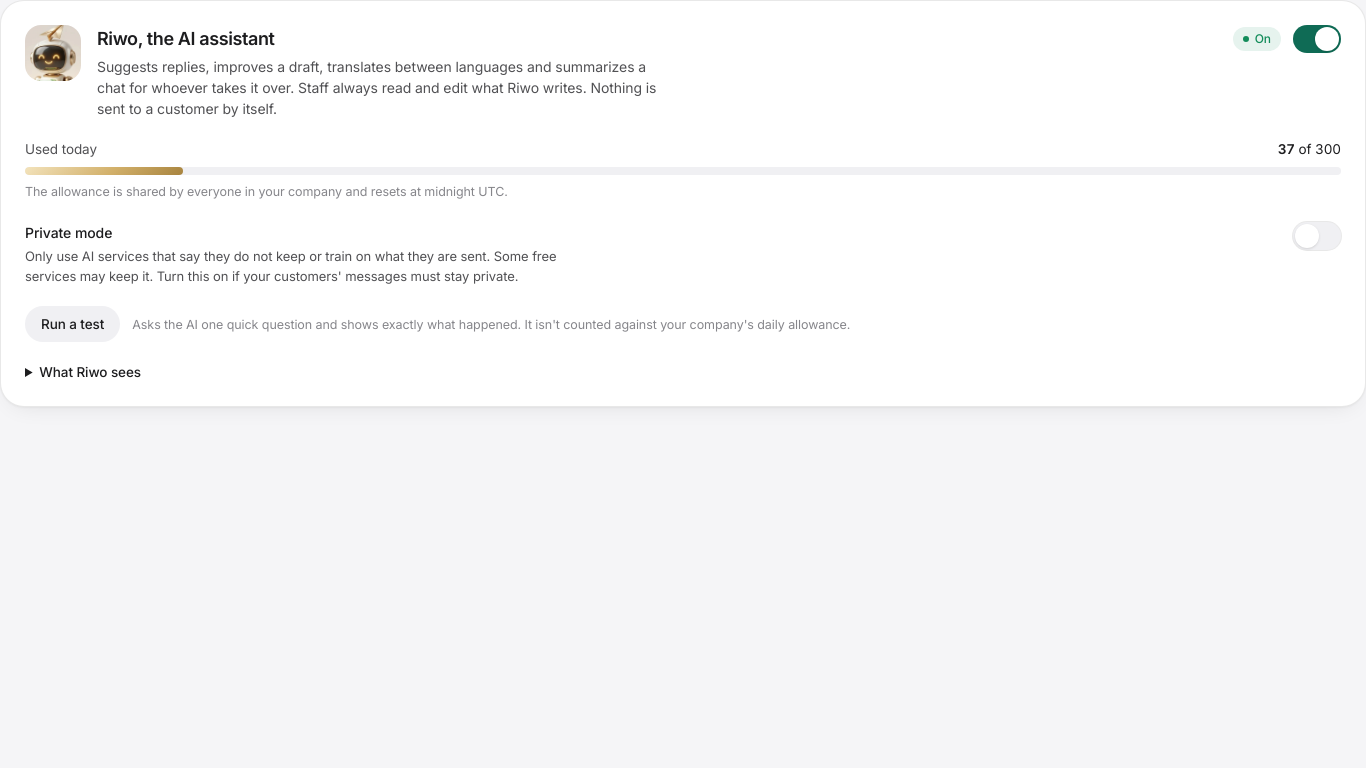
the AI assistant settings › a test shows the account, the models found and what each attempt said
What coordinates should you click on to do the following:
click the button "Run a test"
I would click on:
 (73, 324)
Its box is [25, 306, 120, 342].
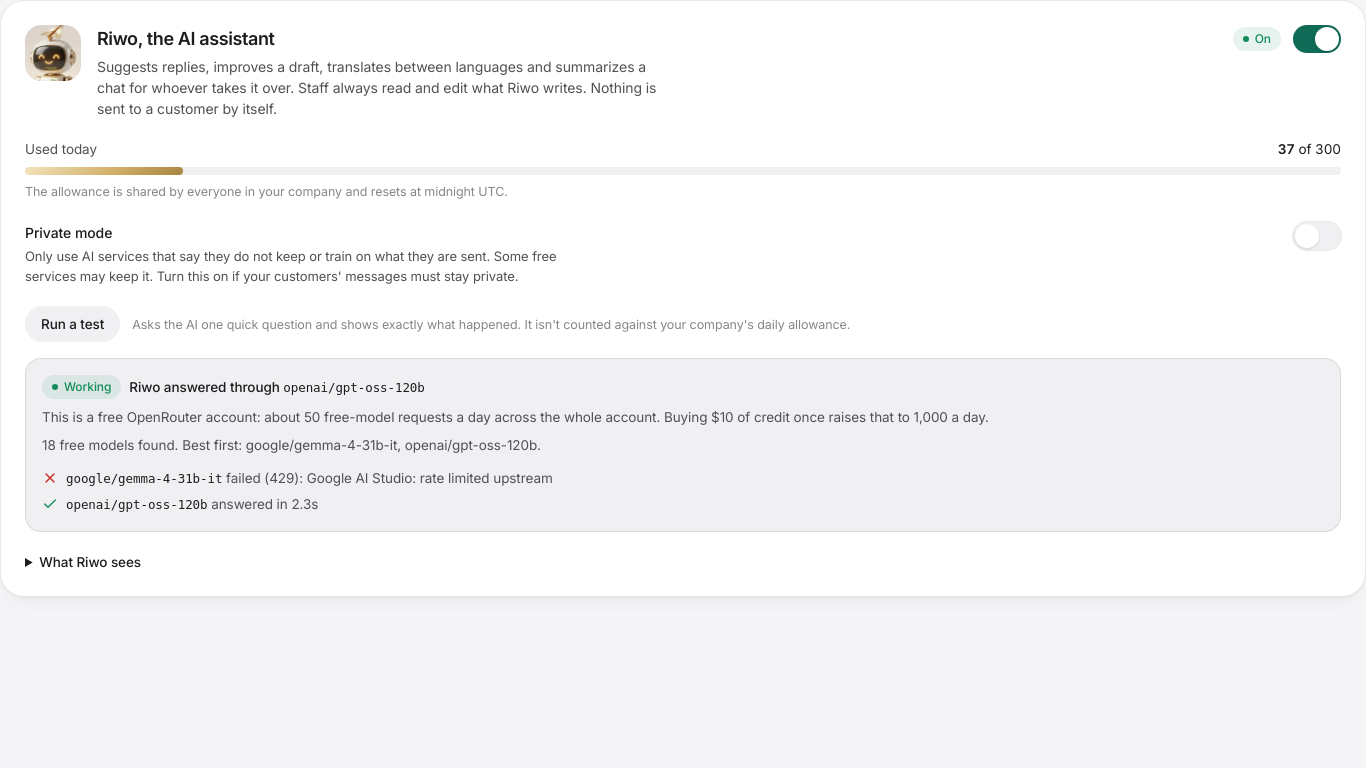
Expected: the text "Working" is shown, [42, 375, 121, 399]
Expected: the text "Riwo answered through openai/gpt-oss-120b" is shown, [129, 377, 425, 397]
Expected: the text "buying $10 of credit" is shown, [42, 409, 989, 425]
